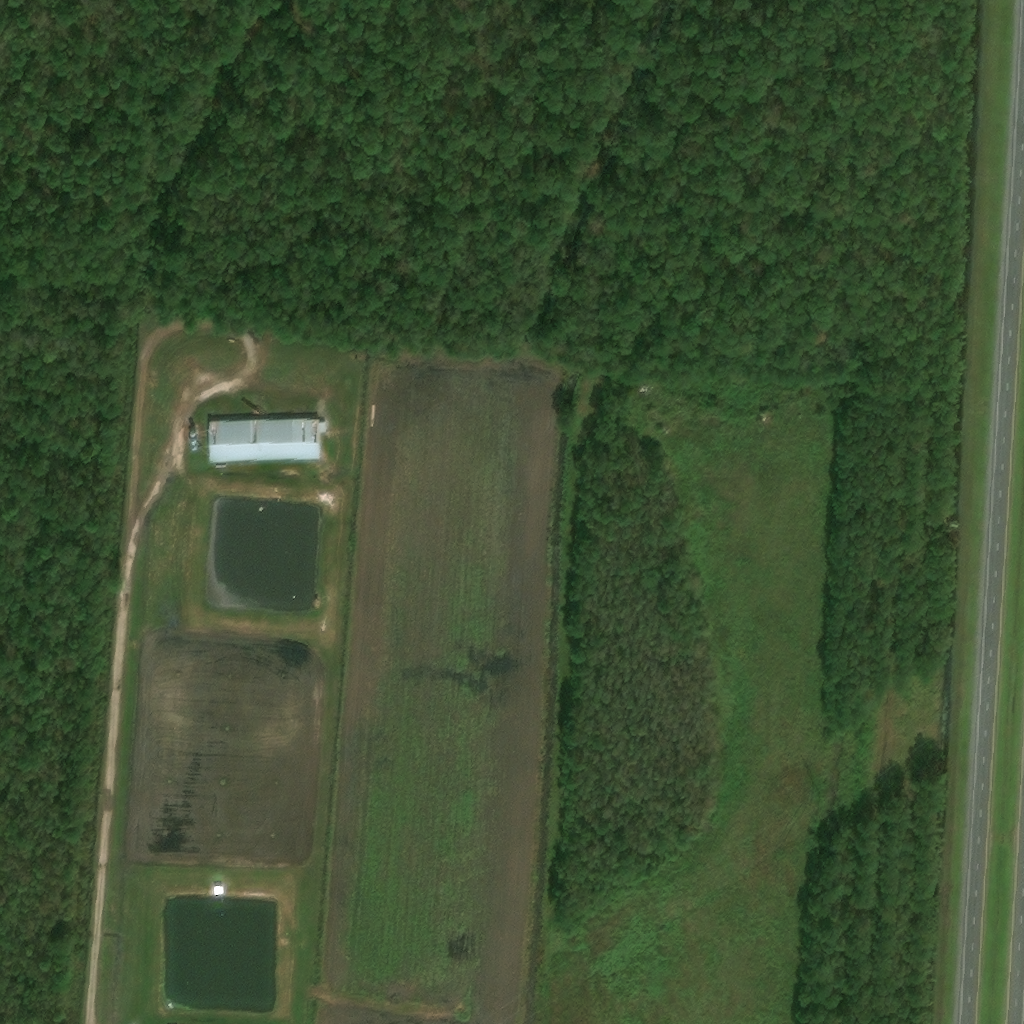minor_damage: (205, 419, 326, 461), (188, 430, 196, 434)
